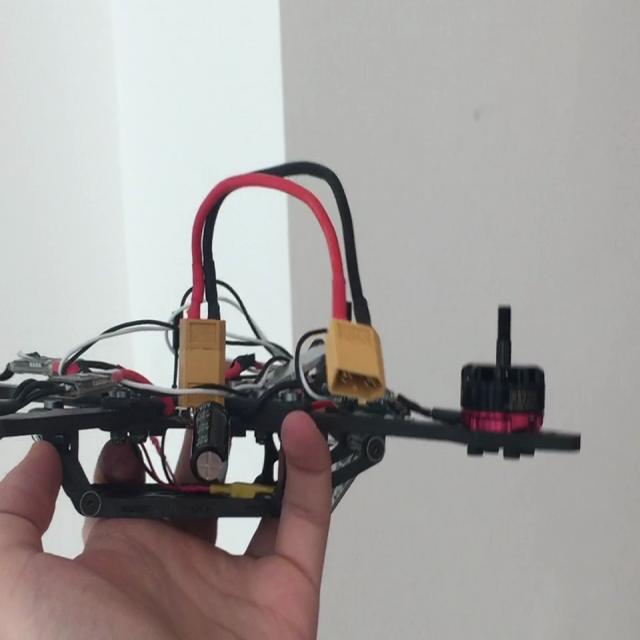drone: (0, 257, 593, 544)
